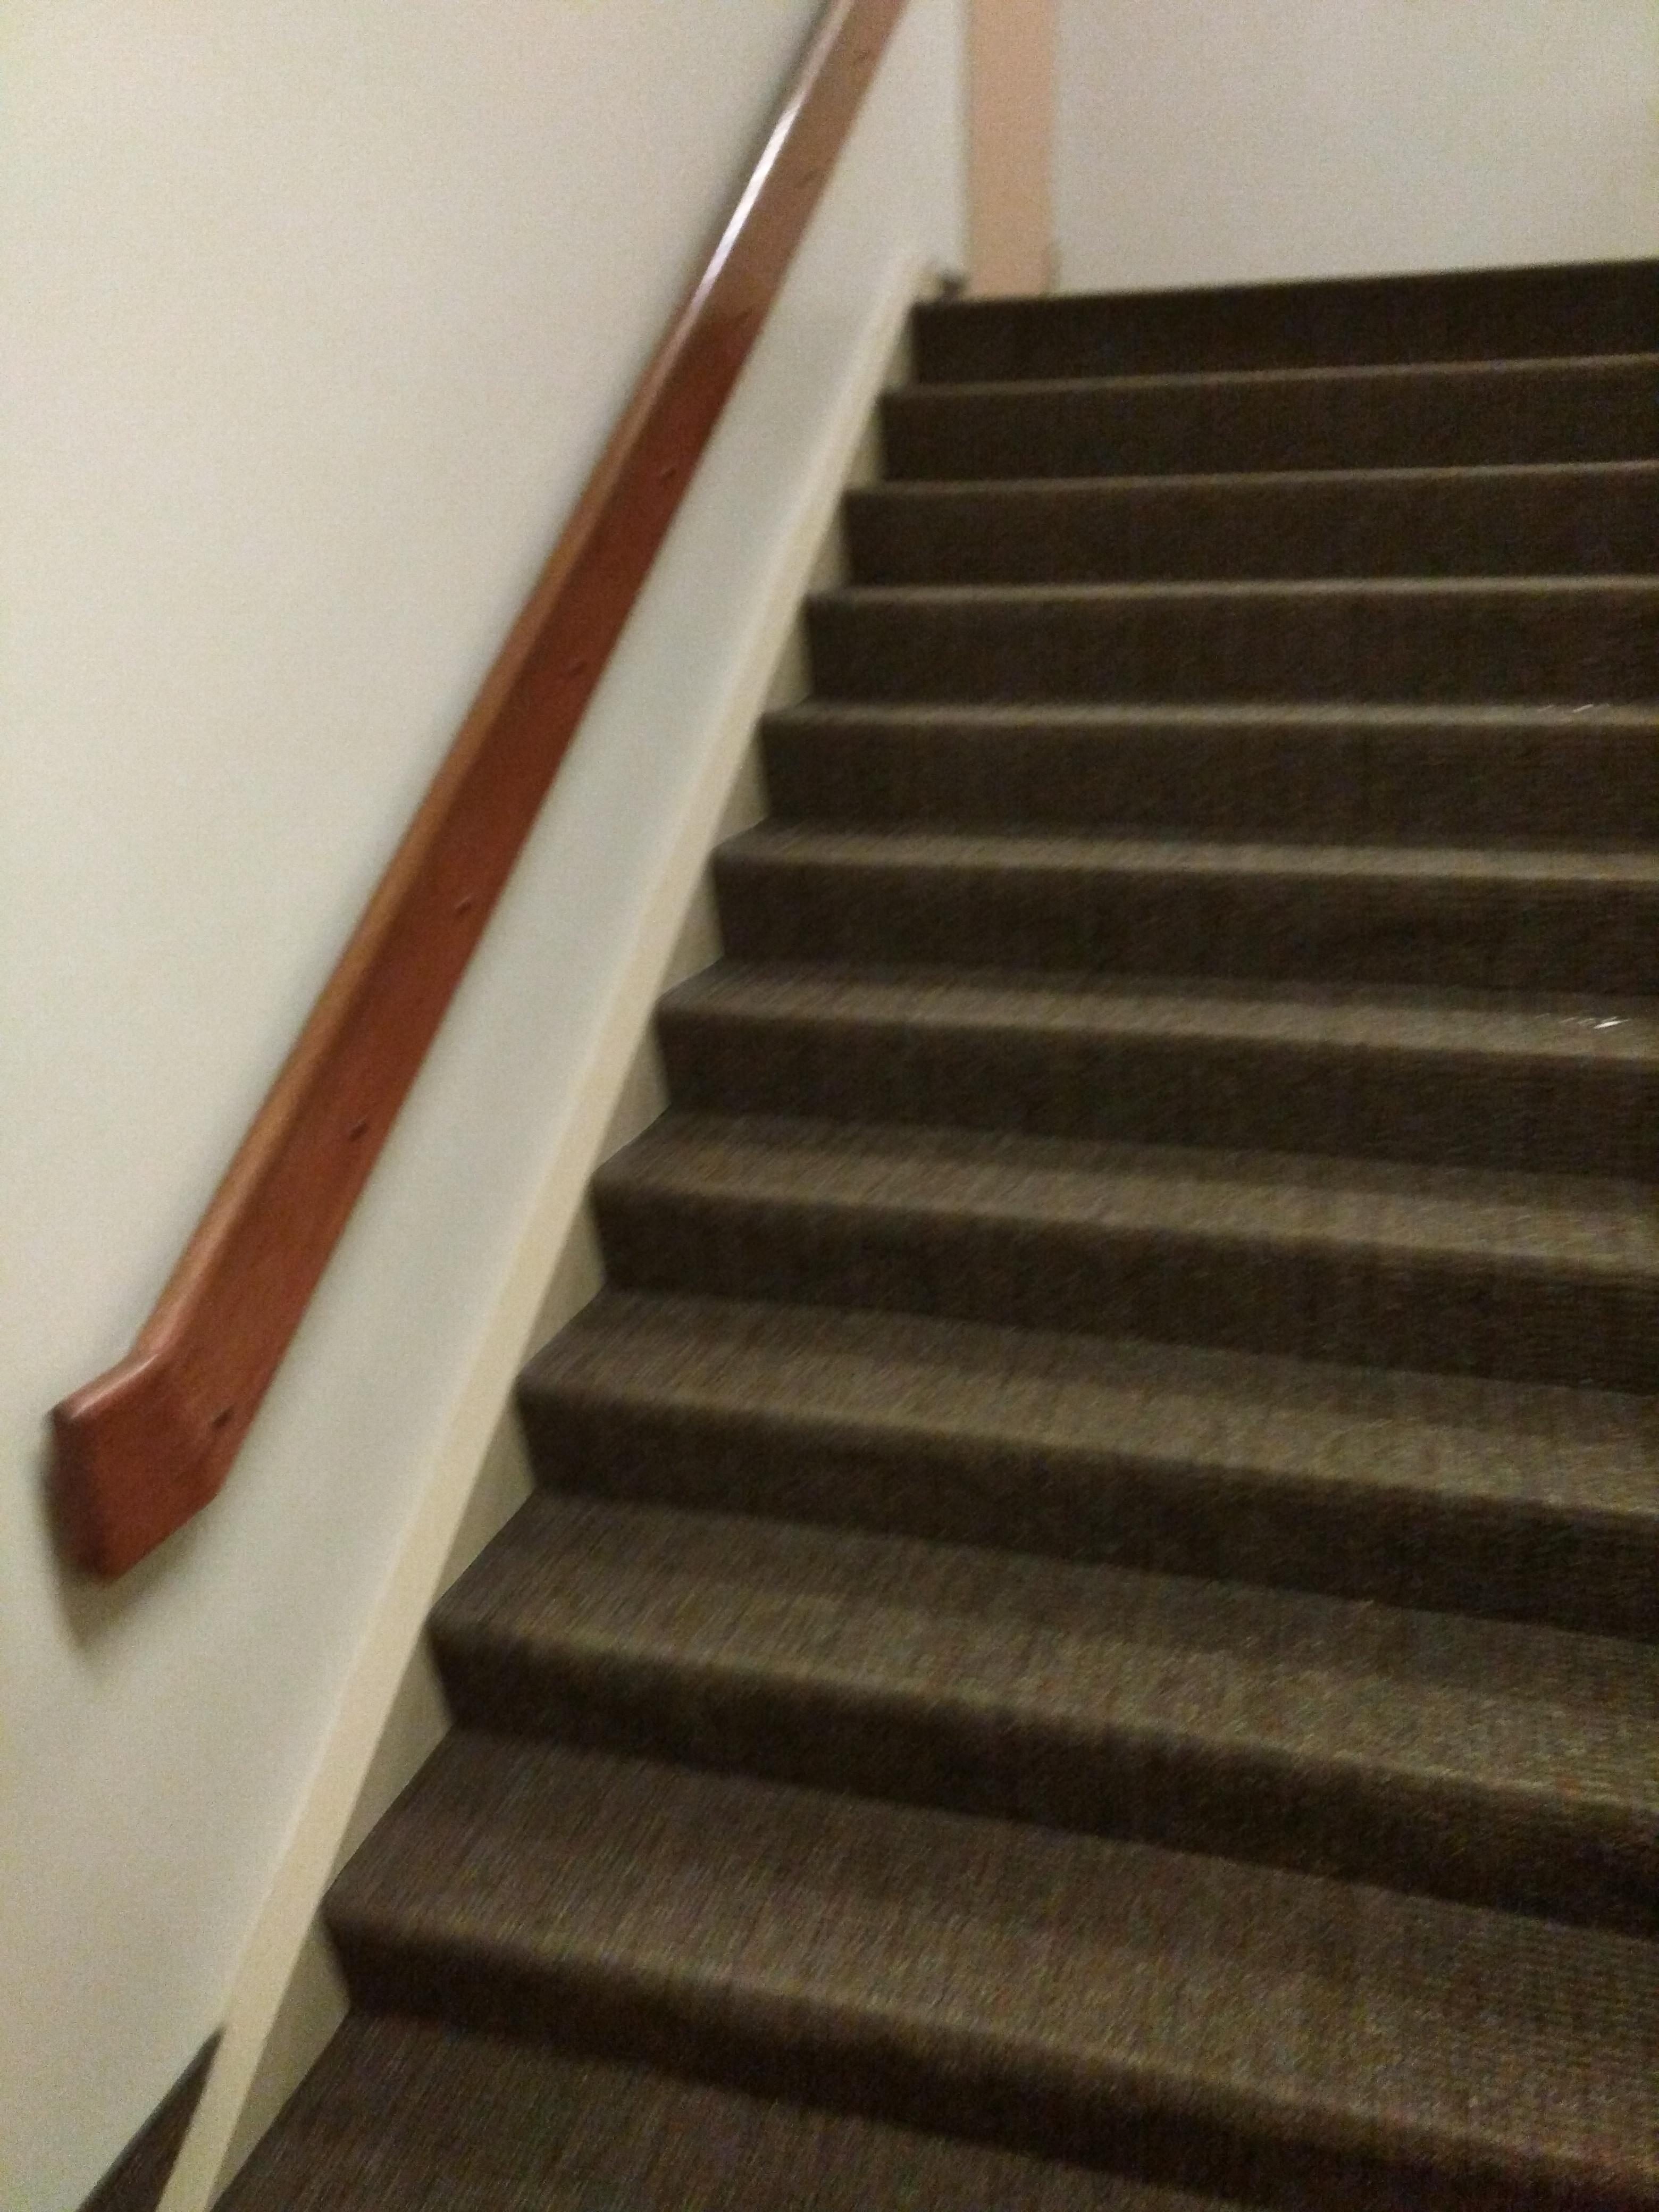stairs_up: (312, 239, 1659, 2212)
